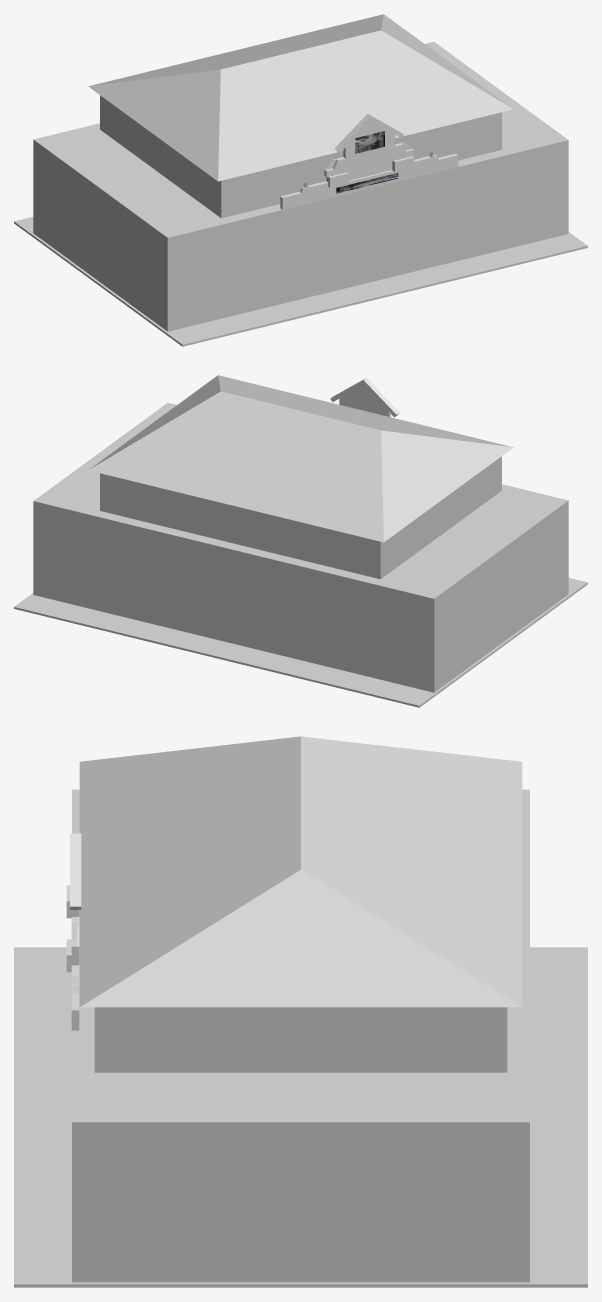
The model's file is testTF.dae.
3 renders of one model, top to bottom at view 1: azimuth 30°, elevation 25°; view 2: azimuth 150°, elevation 25°; view 3: azimuth 270°, elevation 25°, orthographic. The views are drawn at different scales.
Parts seen in each view (by area): view 1: solid_School_of_Engineering, solid_cartel_eps_2_, Brep; view 2: solid_School_of_Engineering, solid_cartel_eps_2_; view 3: solid_School_of_Engineering, solid_cartel_eps_2_.
Part boxes in pixels (x1,y1,x2,y2): solid_School_of_Engineering: (14, 14, 587, 346); solid_cartel_eps_2_: (280, 113, 458, 209); Brep: (355, 131, 384, 153); solid_School_of_Engineering: (14, 375, 587, 707); solid_cartel_eps_2_: (330, 377, 399, 417); solid_School_of_Engineering: (14, 736, 587, 1287); solid_cartel_eps_2_: (66, 833, 81, 1030).
Bounding box in the file's own units: 1.06 × 0.765 × 0.465.
4 materials, 2 textured.
